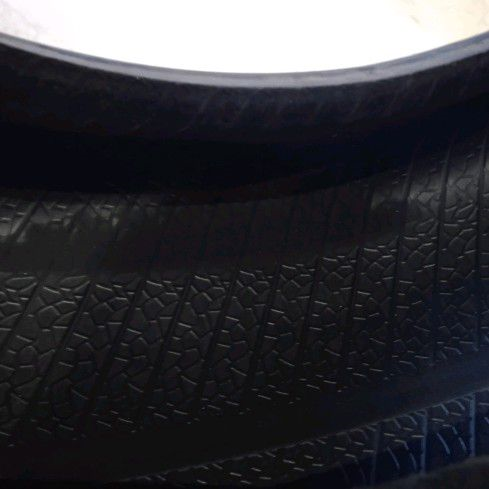CBU: (4, 182, 418, 276)
